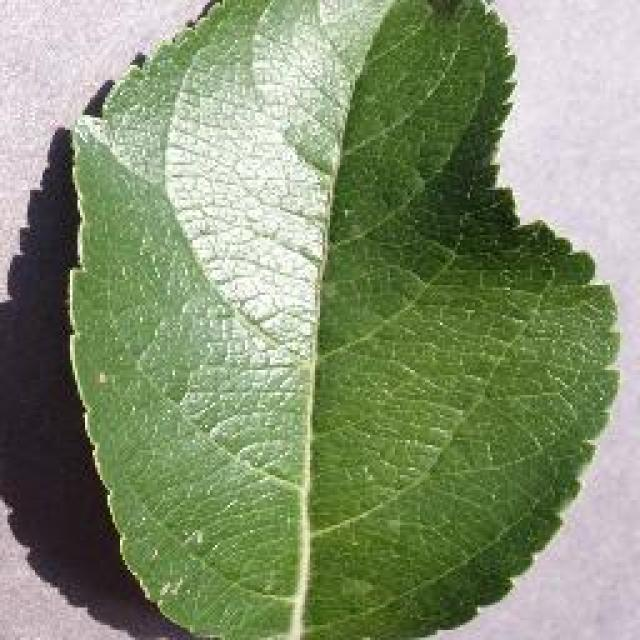apple scab disease: (62, 0, 622, 638)
